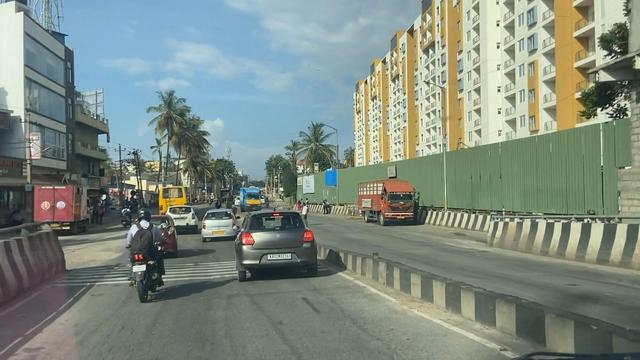HMV: (36, 185, 92, 234)
LMV: (238, 212, 315, 277), (129, 209, 162, 295), (203, 210, 235, 239), (168, 207, 199, 228)
UnsurfacedRoad: (65, 239, 118, 268)
